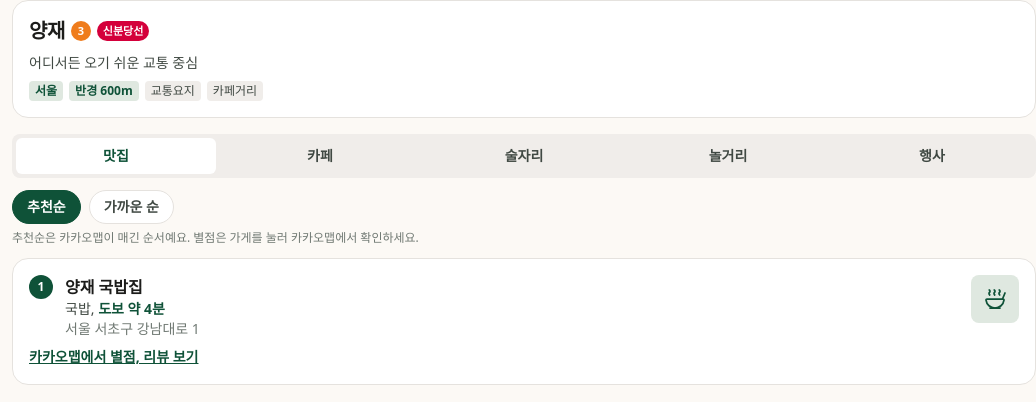
Test: 테마가 없으면 맛집 탭부터, 탭을 바꾸면 그 종류를 한 번 불러온다
Check: the text "양재 국밥집" is shown, box [65,276,143,298]
Click the tab "행사" at (932, 156), box [832,138,1032,174]
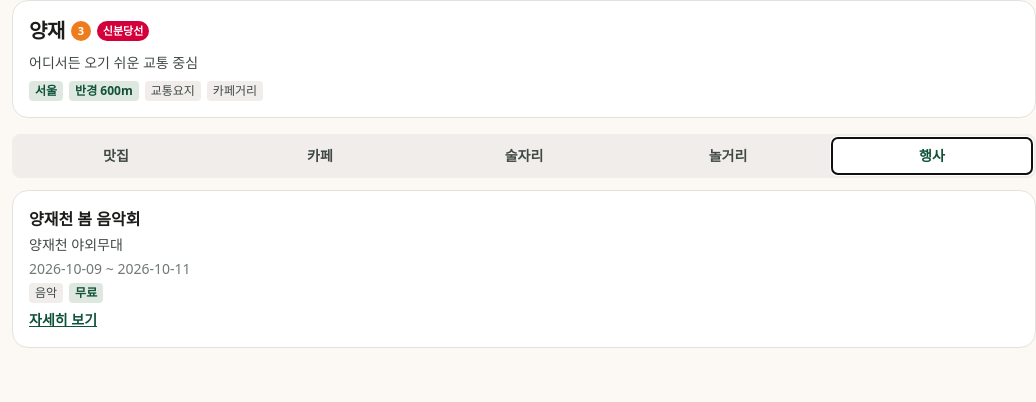
Check: the text "양재천 봄 음악회" is shown, box [29,208,140,230]
Check: the text "무료" is shown, box [69,283,103,303]
Check: the text "2026-10-09 ~ 2026-10-11" is shown, box [29,259,190,279]
Click the tab "맛집" at (116, 156), box [16,138,216,174]
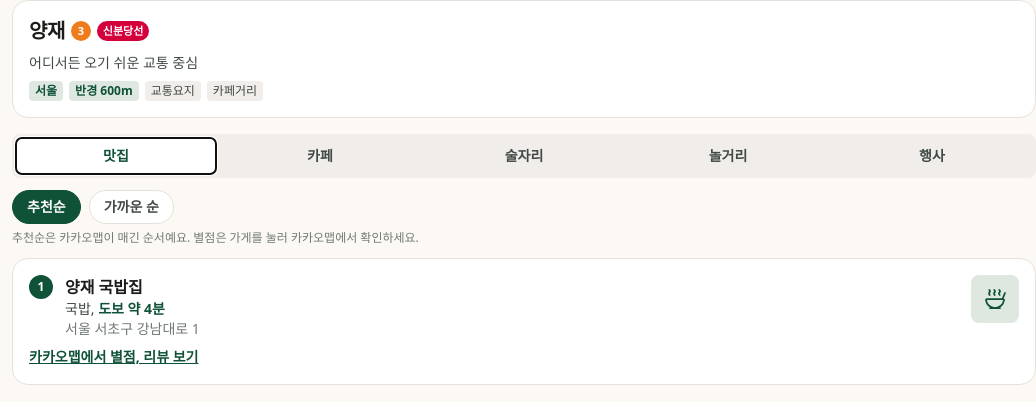
Check: the text "양재 국밥집" is shown, box [65,276,143,298]
